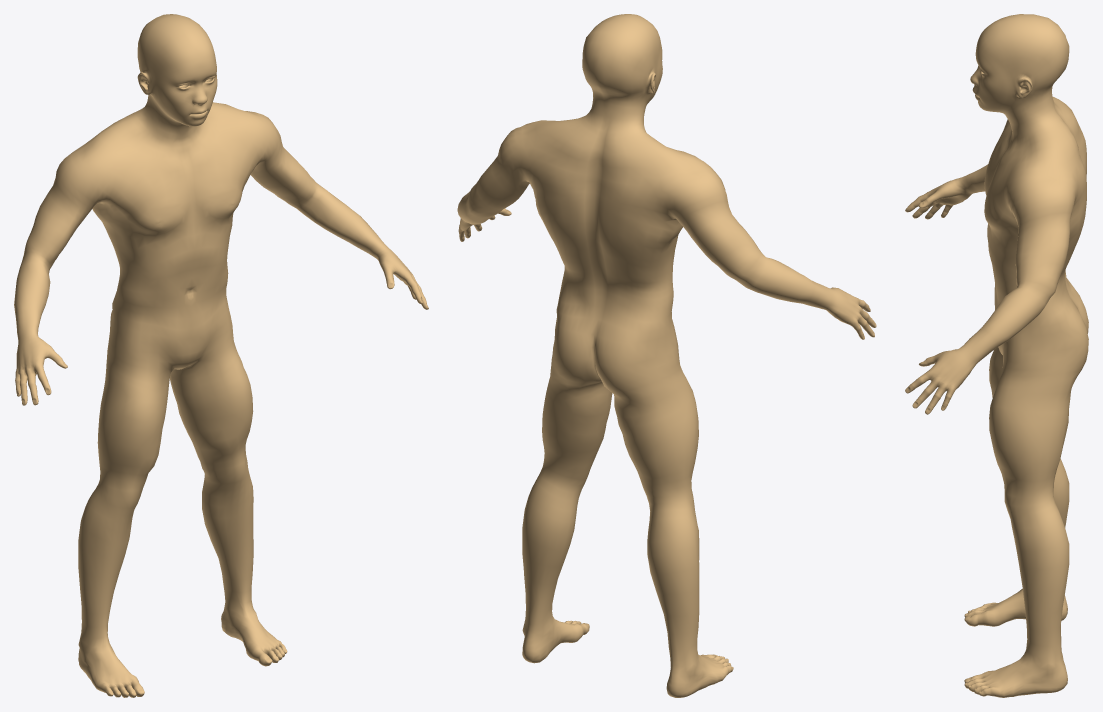
3 views of the same model, side by side, from view 1: azimuth 30°, elevation 25°; view 2: azimuth 150°, elevation 25°; view 3: azimuth 270°, elevation 25° (orthographic).
Visible parts, largest first — view 1: Human; view 2: Human; view 3: Human.
Part boxes in pixels (bbox=[...]): Human: bbox=[14, 14, 428, 697]; Human: bbox=[457, 14, 876, 697]; Human: bbox=[905, 14, 1088, 697].
Size of the model in its own units: 1.02 by 1.55 by 0.4039.
